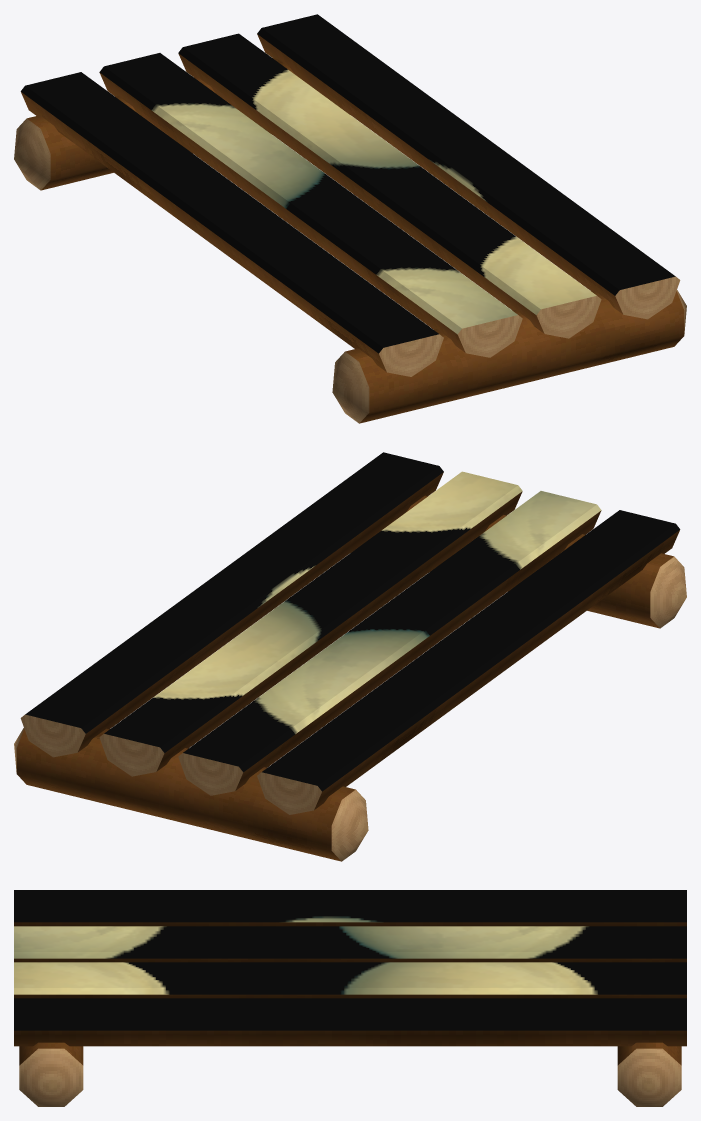
Rendered from Docks_Decking_Flat_1x2.fbx.
The picture shows the model from 3 angles, top to bottom: view 1: azimuth 30°, elevation 25°; view 2: azimuth 150°, elevation 25°; view 3: azimuth 270°, elevation 25°; orthographic projection. The views are drawn at different scales.
Parts seen in each view (by area): view 1: Docks_Decking_Flat_1x2; view 2: Docks_Decking_Flat_1x2; view 3: Docks_Decking_Flat_1x2.
Part boxes in pixels (x1=…): Docks_Decking_Flat_1x2: x1=14, y1=14, x2=686, y2=423; Docks_Decking_Flat_1x2: x1=14, y1=452, x2=686, y2=861; Docks_Decking_Flat_1x2: x1=14, y1=890, x2=686, y2=1106.
Bounding box in the file's own units: 112 × 25 × 197.
